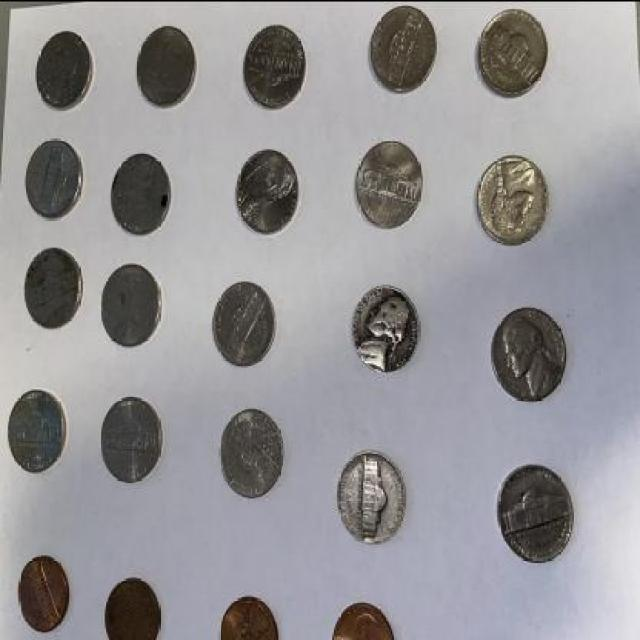Nickel: (484, 301, 570, 414), (494, 462, 576, 566), (473, 152, 552, 246), (351, 282, 424, 378), (476, 8, 552, 97), (209, 277, 280, 372), (366, 6, 440, 97), (334, 450, 404, 544), (216, 409, 286, 502), (352, 140, 425, 229), (97, 389, 165, 482), (232, 144, 302, 233), (5, 381, 70, 474), (98, 258, 164, 348), (108, 147, 174, 236), (132, 23, 200, 109), (32, 26, 100, 111), (242, 20, 306, 109), (23, 136, 85, 222), (23, 242, 83, 328)
Penny: (15, 551, 76, 634), (100, 570, 163, 638), (214, 590, 283, 638), (328, 598, 397, 638)
